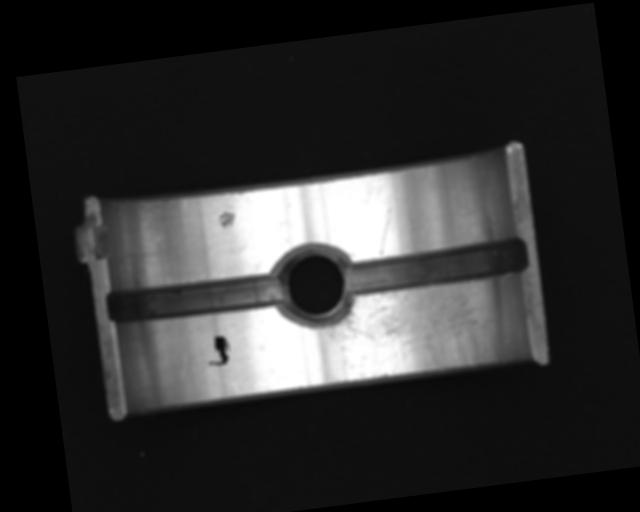blot: (204, 333, 232, 368)
bruise: (216, 210, 237, 230)
gap: (341, 234, 530, 299), (106, 269, 286, 328)
hole: (272, 242, 356, 332)
nick: (374, 208, 397, 256)
scratch: (321, 279, 506, 385)
